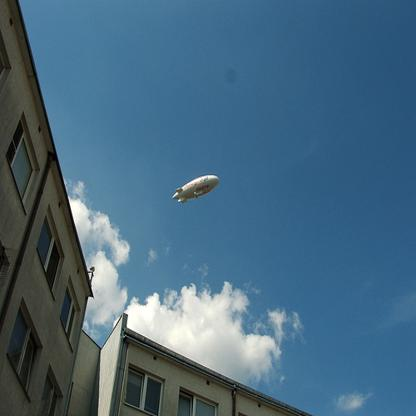Airship: (171, 173, 223, 208)
